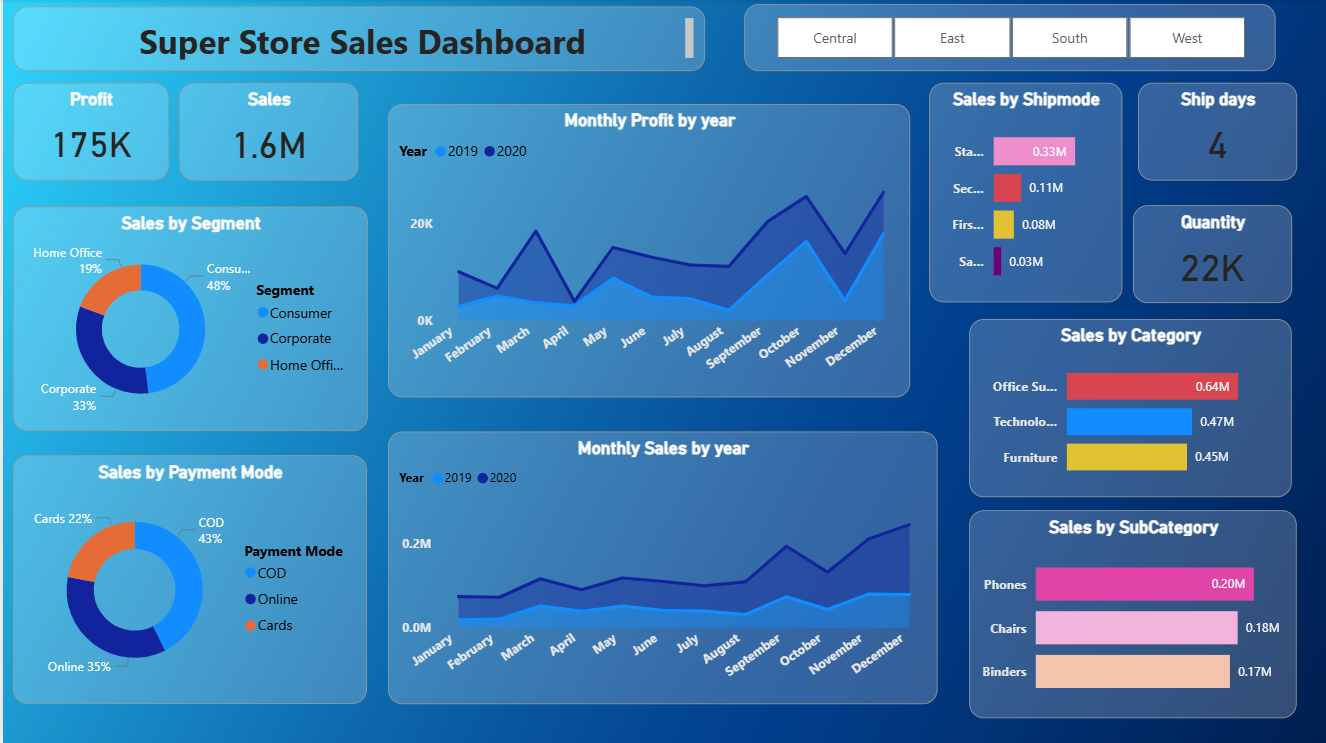

What the dashboard file says about the page in this screenshot:
{"tool":"powerbi","page":{"name":"Page 1","canvas":[1280,720],"ordinal":0},"visuals":[{"type":"clusteredBarChart","title":" Sales by Category","fields":{"Category":["SuperStore_Sales_Dataset.Category"],"Y":["Sum(SuperStore_Sales_Dataset.Sales)"]},"box":[932,309,311,172],"z":0},{"type":"clusteredBarChart","title":" Sales by SubCategory","fields":{"Category":["SuperStore_Sales_Dataset.Sub-Category"],"Y":["Sum(SuperStore_Sales_Dataset.Sales)"]},"box":[932,493,316,201],"z":1000},{"type":"clusteredBarChart","title":" Sales by Shipmode","fields":{"Category":["SuperStore_Sales_Dataset.Ship Mode"],"Y":["Sum(SuperStore_Sales_Dataset.Sales)"]},"box":[894,81,186,212],"z":2000},{"type":"stackedAreaChart","title":"Monthly Sales by year","fields":{"Y":["Sum(SuperStore_Sales_Dataset.Sales)"],"Category":["SuperStore_Sales_Dataset.Order Date.Variation.Date Hierarchy.Month"],"Series":["SuperStore_Sales_Dataset.Order Date.Variation.Date Hierarchy.Year"]},"box":[372,417,530,263],"z":3000},{"type":"stackedAreaChart","title":"Monthly Profit by year","fields":{"Category":["SuperStore_Sales_Dataset.Order Date.Variation.Date Hierarchy.Month"],"Series":["SuperStore_Sales_Dataset.Order Date.Variation.Date Hierarchy.Year"],"Y":["Sum(SuperStore_Sales_Dataset.Profit)"]},"box":[372,101,504,283],"z":4000},{"type":"donutChart","title":"Sales by Segment","fields":{"Category":["SuperStore_Sales_Dataset.Segment"],"Y":["Sum(SuperStore_Sales_Dataset.Sales)"]},"box":[10,200,342,217],"z":5000},{"type":"donutChart","title":"Sales by Payment Mode","fields":{"Category":["SuperStore_Sales_Dataset.Payment Mode"],"Y":["Sum(SuperStore_Sales_Dataset.Sales)"]},"box":[9.7,440.4,341.4,240.1],"z":6000},{"type":"slicer","fields":{"Values":["SuperStore_Sales_Dataset.Region"]},"box":[715,5,513,65],"z":7000},{"type":"textbox","box":[9.7,7.2,668.4,62.7],"z":8000},{"type":"card","title":"Sales","fields":{"Values":["Sum(SuperStore_Sales_Dataset.Sales)"]},"box":[170.1,80.8,172.5,94.1],"z":9000},{"type":"card","title":"Quantity","fields":{"Values":["Sum(SuperStore_Sales_Dataset.Quantity)"]},"box":[1090.6,199.1,153.2,94.1],"z":10000},{"type":"card","title":"Profit","fields":{"Values":["Sum(SuperStore_Sales_Dataset.Profit)"]},"box":[10,81,150,94],"z":11000},{"type":"card","title":"Ship days","fields":{"Values":["Avg(SuperStore_Sales_Dataset.AvgDelivery)"]},"box":[1095.4,80.8,153.2,94.1],"z":12000}]}

Visuals, with their boxes in screenshot pixels (x1, y1, x2, y2), scaled from the page's 1280x720 canvas onto the 1326x743 screenshot:
" Sales by Category" clusteredBarChart: x1=965 y1=319 x2=1288 y2=496
" Sales by SubCategory" clusteredBarChart: x1=965 y1=509 x2=1293 y2=716
" Sales by Shipmode" clusteredBarChart: x1=926 y1=84 x2=1119 y2=302
"Monthly Sales by year" stackedAreaChart: x1=385 y1=430 x2=934 y2=702
"Monthly Profit by year" stackedAreaChart: x1=385 y1=104 x2=907 y2=396
"Sales by Segment" donutChart: x1=10 y1=206 x2=365 y2=430
"Sales by Payment Mode" donutChart: x1=10 y1=454 x2=364 y2=702
slicer - SuperStore_Sales_Dataset.Region: x1=741 y1=5 x2=1272 y2=72
textbox: x1=10 y1=7 x2=702 y2=72
"Sales" card: x1=176 y1=83 x2=355 y2=180
"Quantity" card: x1=1130 y1=205 x2=1288 y2=303
"Profit" card: x1=10 y1=84 x2=166 y2=181
"Ship days" card: x1=1135 y1=83 x2=1293 y2=180
